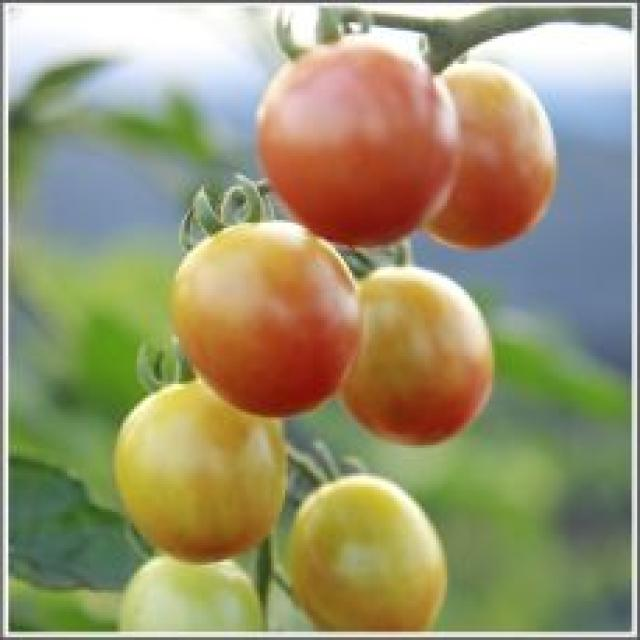level 2: (108, 539, 278, 640)
level 3: (88, 362, 300, 569), (283, 472, 462, 634)
level 4: (322, 245, 498, 458), (172, 211, 353, 414)
level 5: (410, 49, 567, 252)
level 6: (248, 38, 467, 258)
